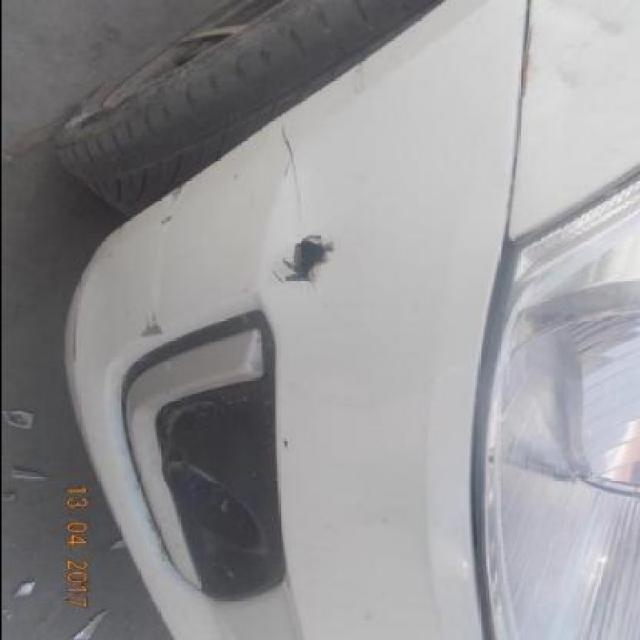damage: (148, 383, 285, 601), (271, 229, 334, 294), (270, 124, 308, 220), (156, 182, 190, 233), (131, 311, 169, 340)
